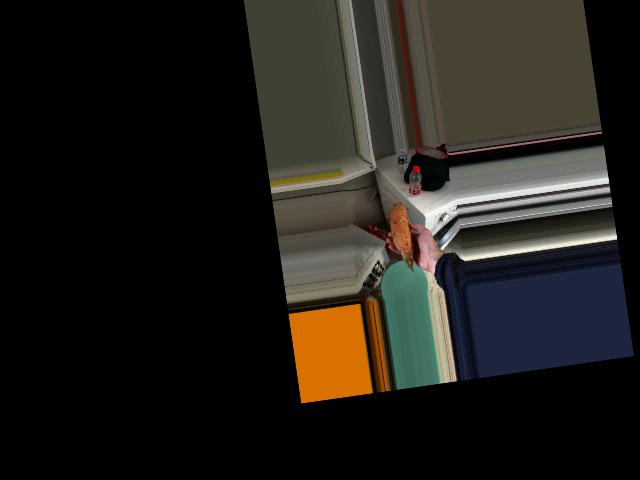sweet_potato: (387, 201, 418, 270)
